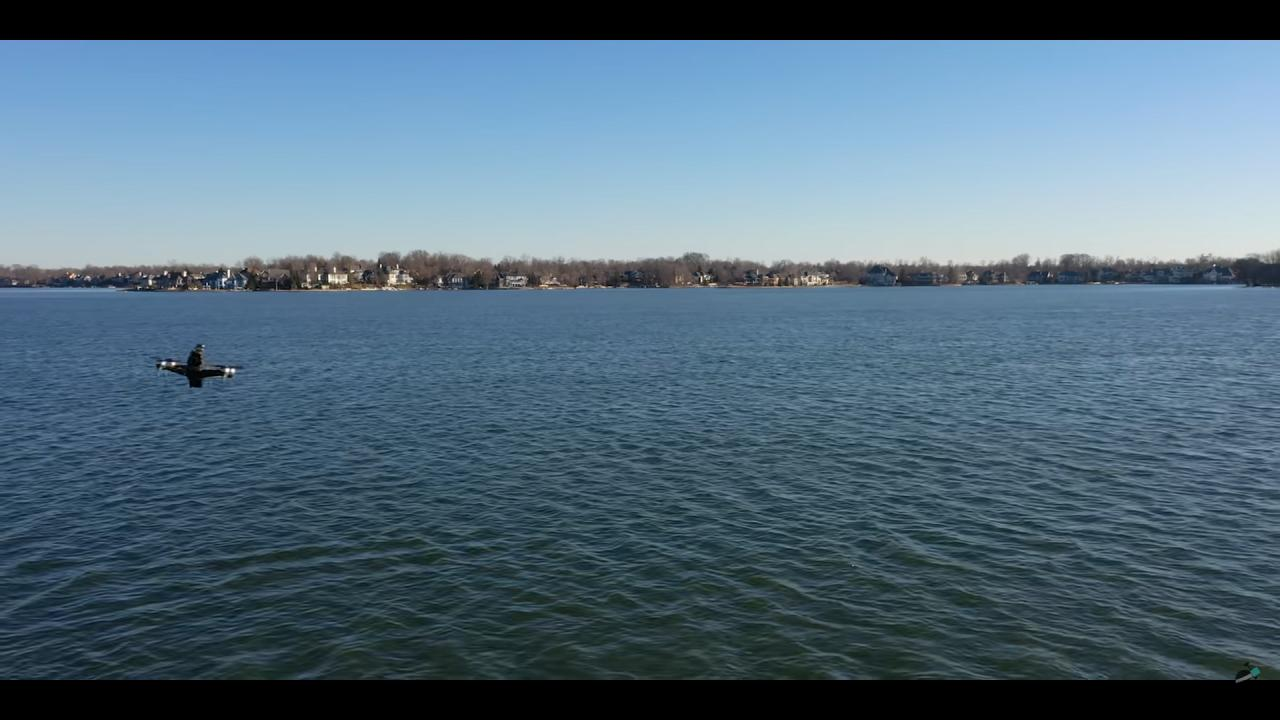Drone: (147, 336, 247, 397)
